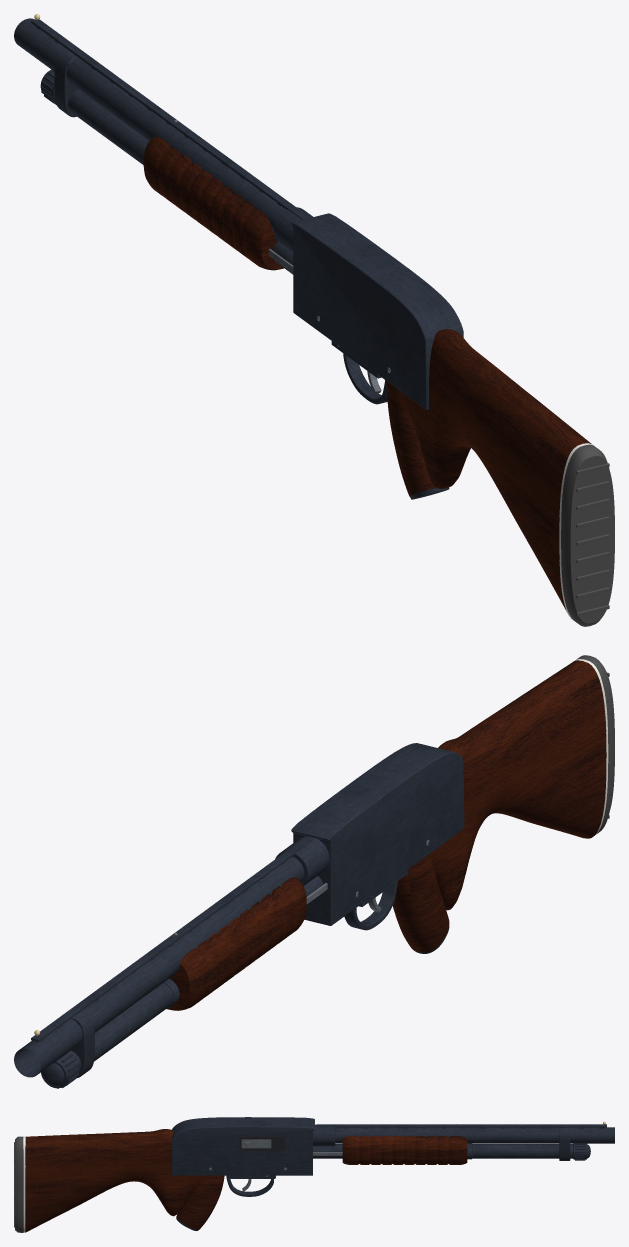
The model's file is shotgun.glb.
The picture shows the model from 3 angles, top to bottom: view 1: azimuth 30°, elevation 25°; view 2: azimuth 150°, elevation 25°; view 3: azimuth 270°, elevation 25°; orthographic projection. The views are drawn at different scales.
Parts seen in each view (by area): view 1: shotgun; view 2: shotgun; view 3: shotgun.
Boxes of the visible parts, x1,y1,x2,y2 form: shotgun: [14, 14, 614, 626]; shotgun: [14, 655, 614, 1088]; shotgun: [14, 1117, 614, 1232].
Size of the model in its own units: 0.049 by 0.1849 by 0.9154.
7 materials, 3 textured.
